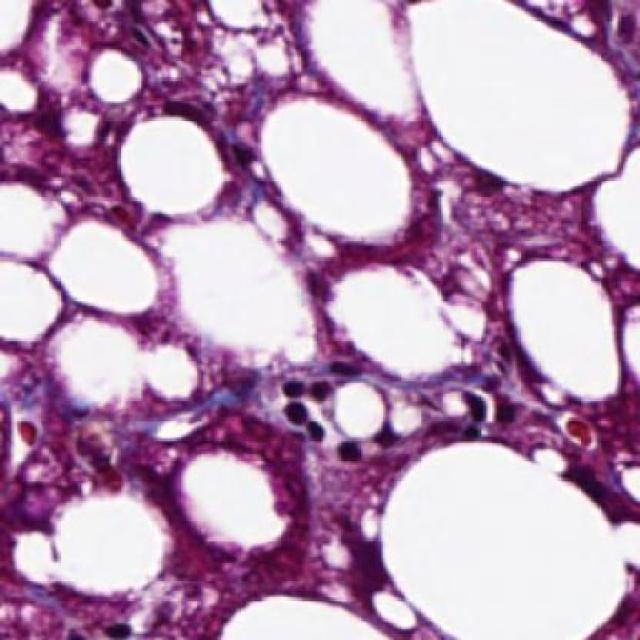inflammation: (276, 360, 336, 460), (454, 384, 498, 432)
